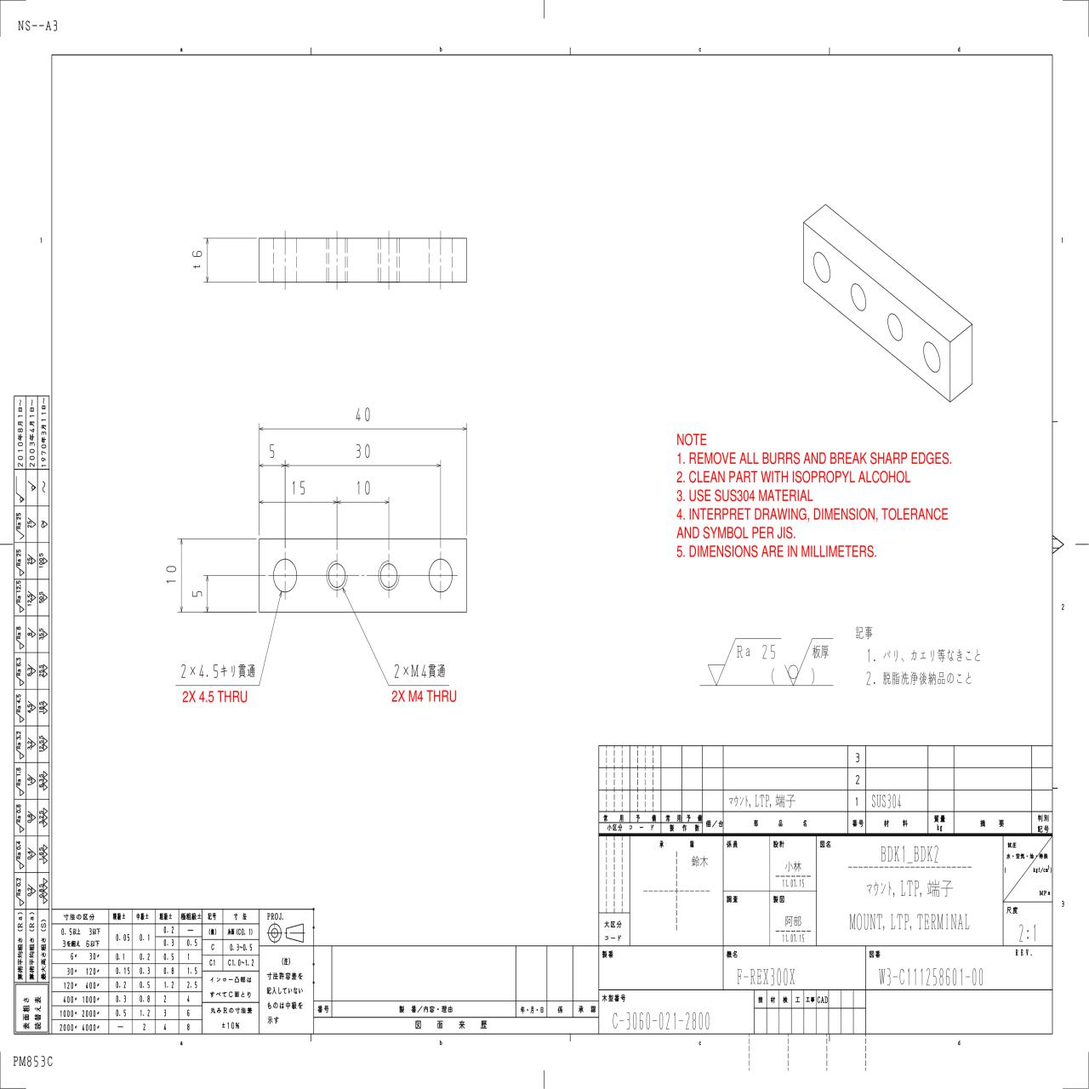basic_dimension: (356, 408, 370, 422), (356, 444, 369, 459), (292, 481, 305, 495), (166, 566, 176, 584), (358, 481, 370, 494), (270, 444, 275, 458), (192, 591, 202, 597)
dimension_metric_symbol: (411, 663, 420, 678)
dimension_thickness_symbol: (192, 250, 202, 269)
surface_finish_symbol: (708, 638, 781, 686)
